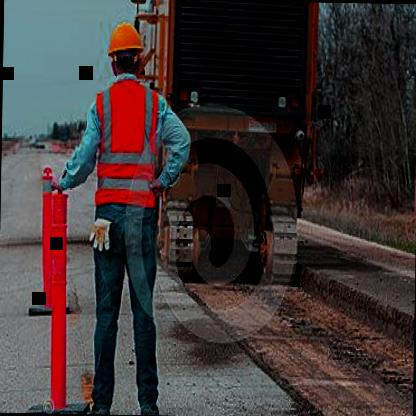helmet: (103, 14, 149, 82)
